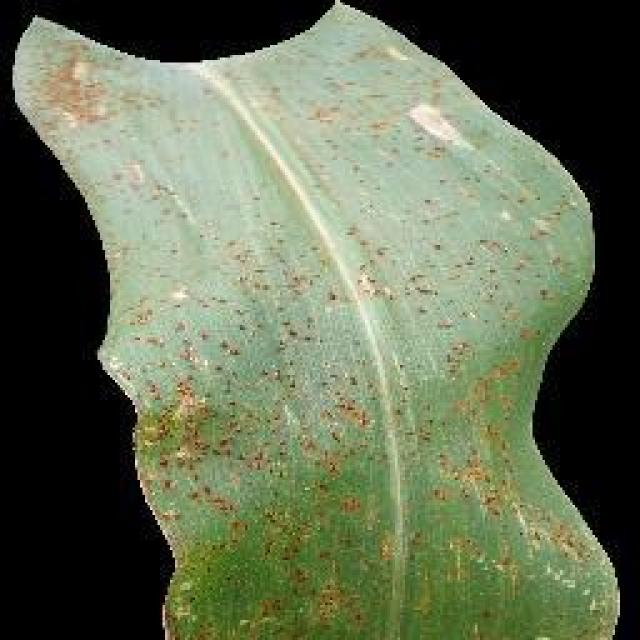Corn Common Rust: (71, 146, 612, 576)
